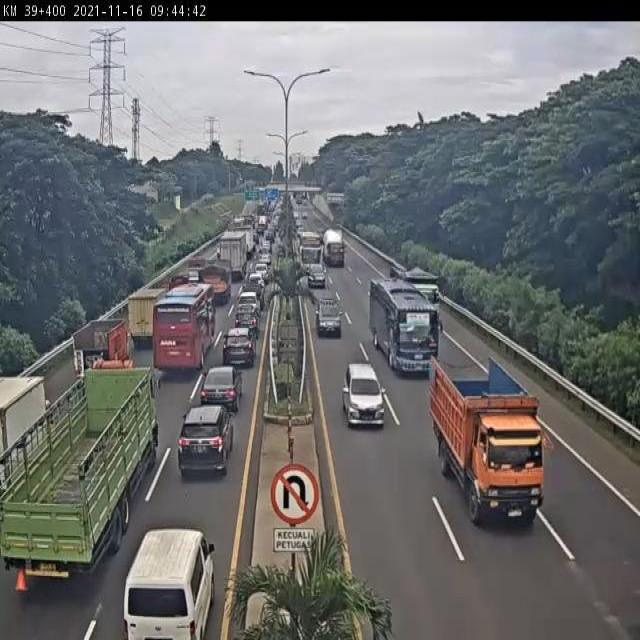big bus: (370, 280, 443, 375), (152, 287, 214, 372)
car: (178, 408, 233, 476), (343, 363, 387, 429), (200, 369, 241, 411), (221, 329, 253, 368), (317, 296, 343, 337), (232, 308, 259, 335), (236, 288, 261, 316)
small bus: (126, 528, 217, 640)
small truck: (128, 287, 166, 345)
truck-l-: (0, 364, 163, 584), (391, 265, 438, 331)
truck-m-: (429, 355, 545, 525), (72, 320, 131, 375), (197, 264, 233, 304)
